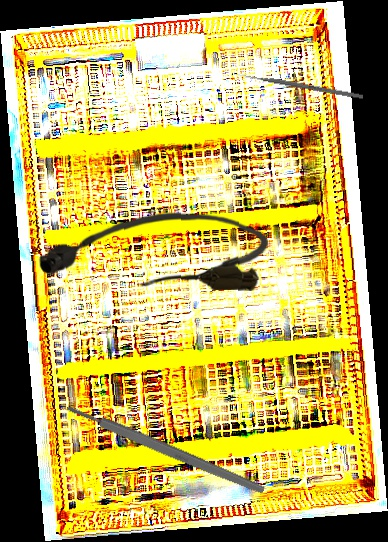Cannula: (36, 209, 269, 292)
Pusher: (235, 71, 364, 100)
Scalpel Handle: (65, 401, 266, 497)
